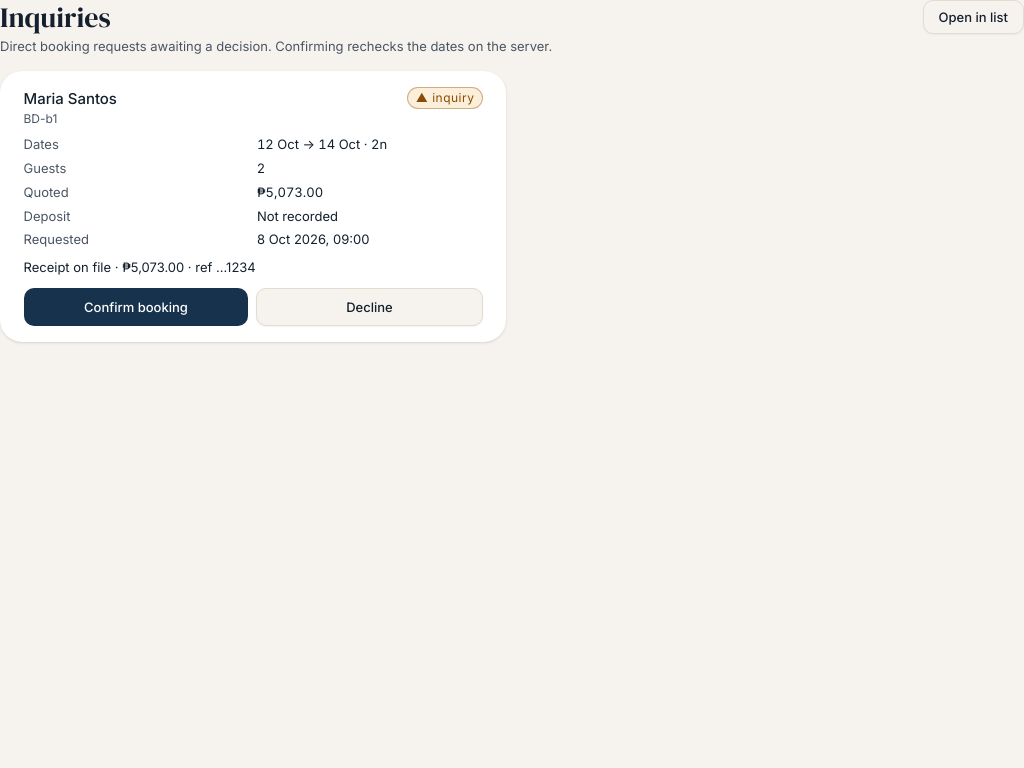
Test: receipt on file: needs the tick, prefilled amount, then sends the comparison id with messenger_gcash
Click the button "Confirm booking": coordinates (136, 307) [24,288,248,326]
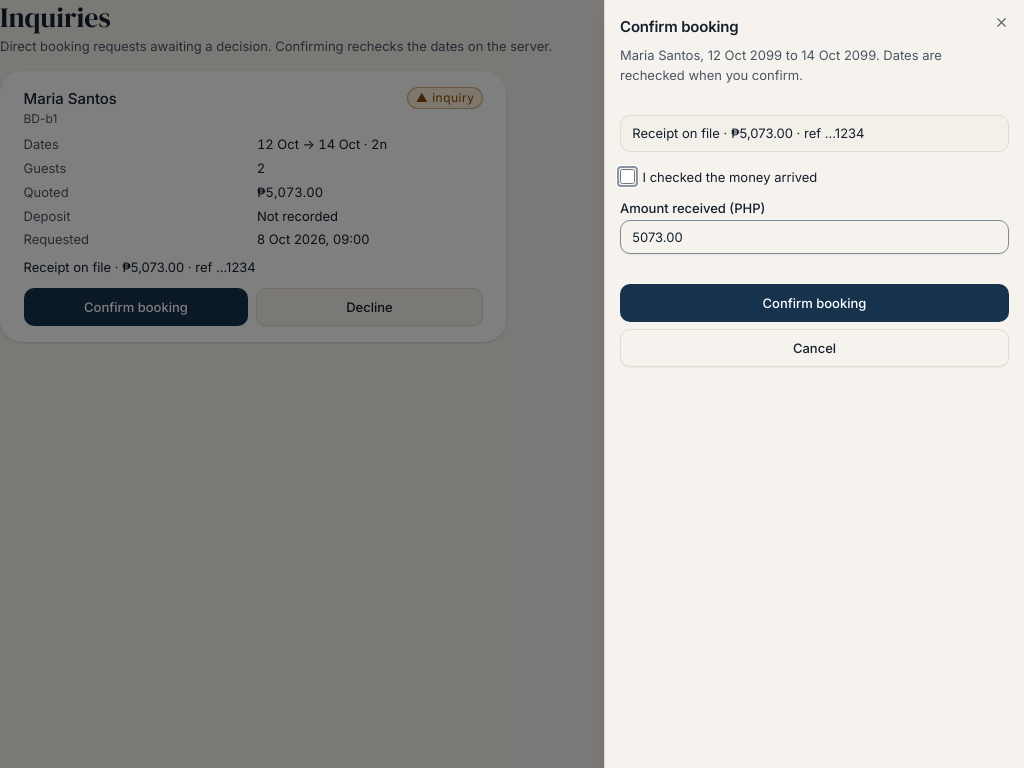
Check: the field labelled "Amount received (PHP)" holds "5073.00", box [620,220,1009,254]
Click the button "Confirm booking": coordinates (814, 303) [620,284,1009,322]
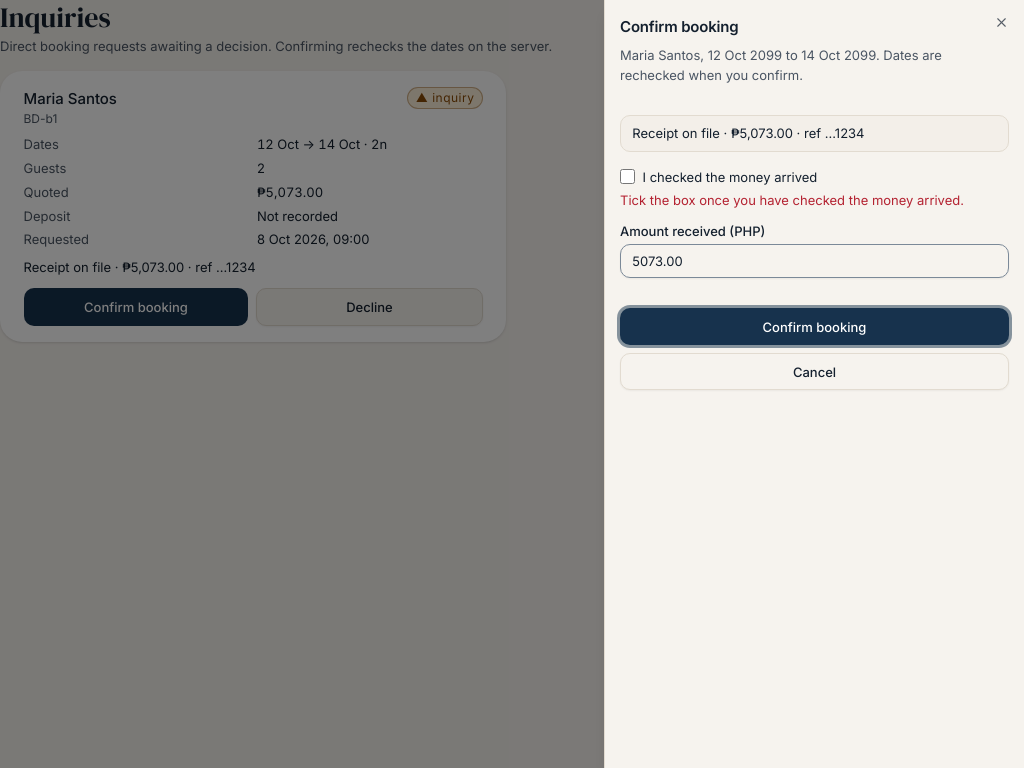
Check: the text "Tick the box once you have checked the money arrived." is shown, box [620,190,1009,210]
Click the checkbox labelled "I checked the money arrived": coordinates (628, 176) [620,168,635,184]
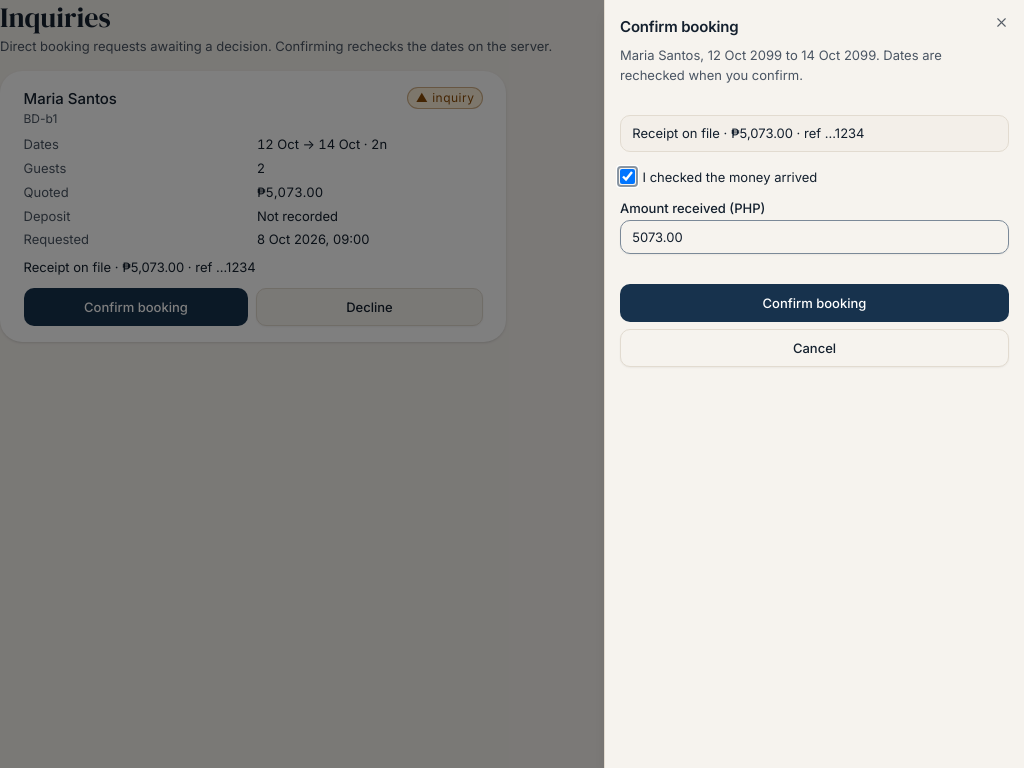
Click the button "Confirm booking": coordinates (814, 303) [620,284,1009,322]
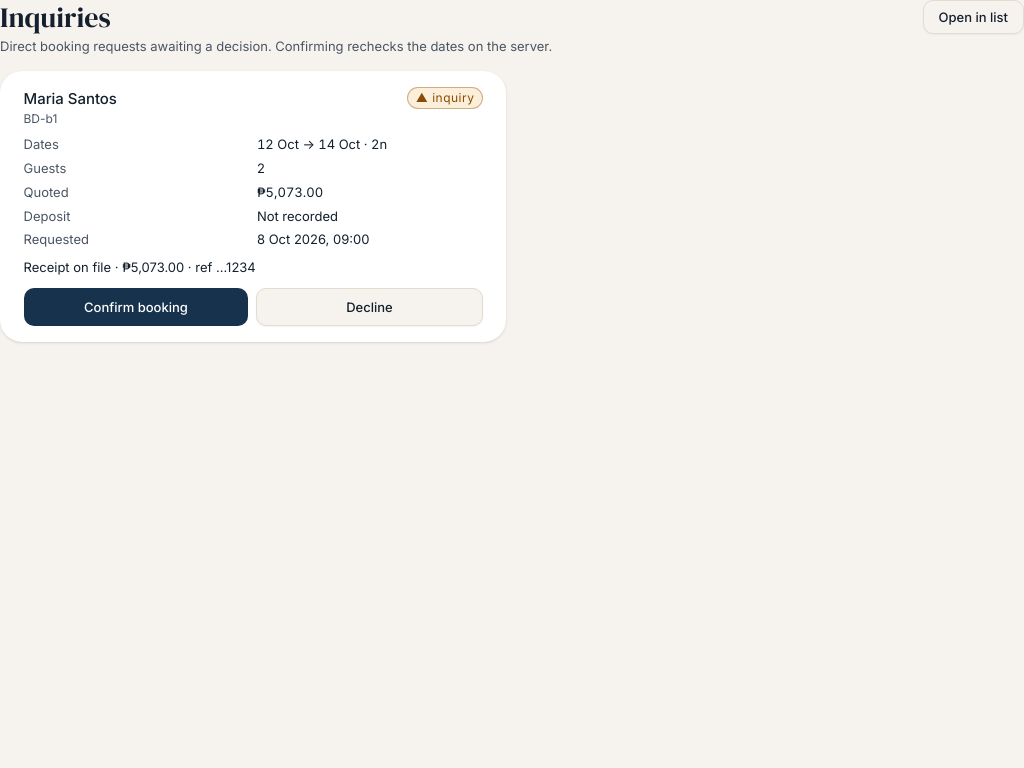
Check: the dialog is gone
